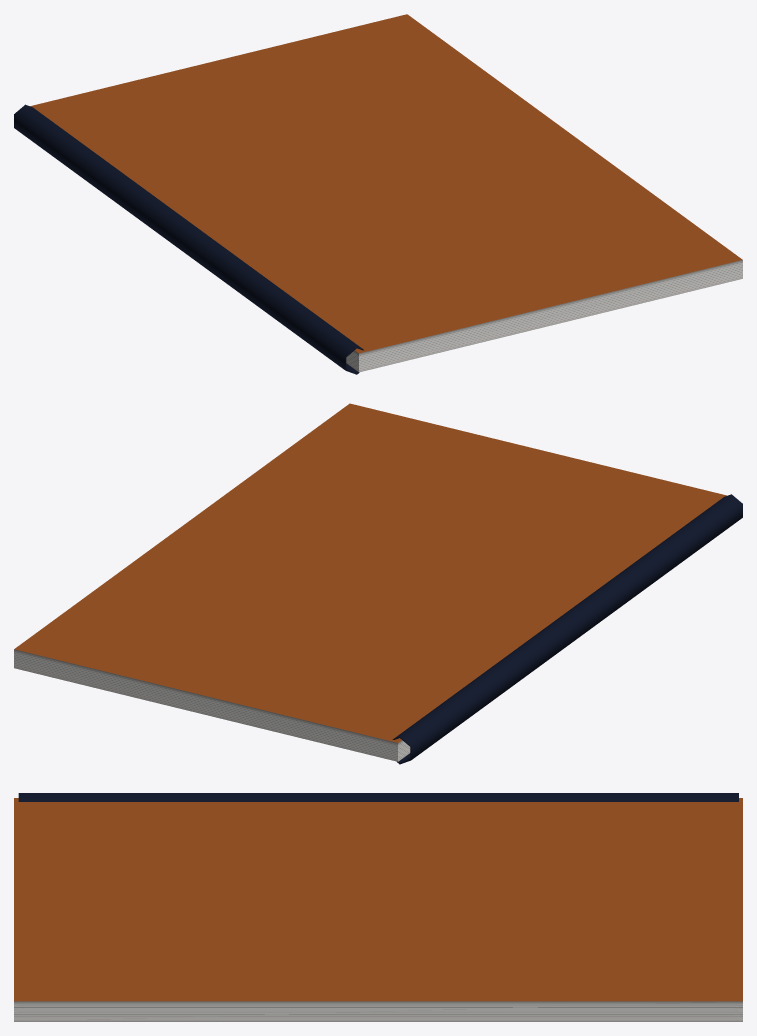
Rendered from Notebook.fbx.
3 renders of one model, top to bottom at view 1: azimuth 30°, elevation 25°; view 2: azimuth 150°, elevation 25°; view 3: azimuth 270°, elevation 25°, orthographic. The views are drawn at different scales.
Parts seen in each view (by area): view 1: Notebook_Cover, Spine, Notebook_Side; view 2: Notebook_Cover, Spine, Notebook_Side; view 3: Notebook_Cover, Notebook_Side, Spine.
Part boxes in pixels (x1,y1,x2,y2): Notebook_Cover: (30,14,742,353); Spine: (14,104,363,374); Notebook_Side: (346,260,742,372); Notebook_Cover: (14,403,726,742); Spine: (392,494,742,764); Notebook_Side: (14,649,410,761); Notebook_Cover: (14,798,742,1001); Notebook_Side: (14,1001,742,1021); Spine: (18,793,738,801).
Size of the model in its own units: 19.89 by 1.32 by 29.26.
3 materials, 1 textured.
